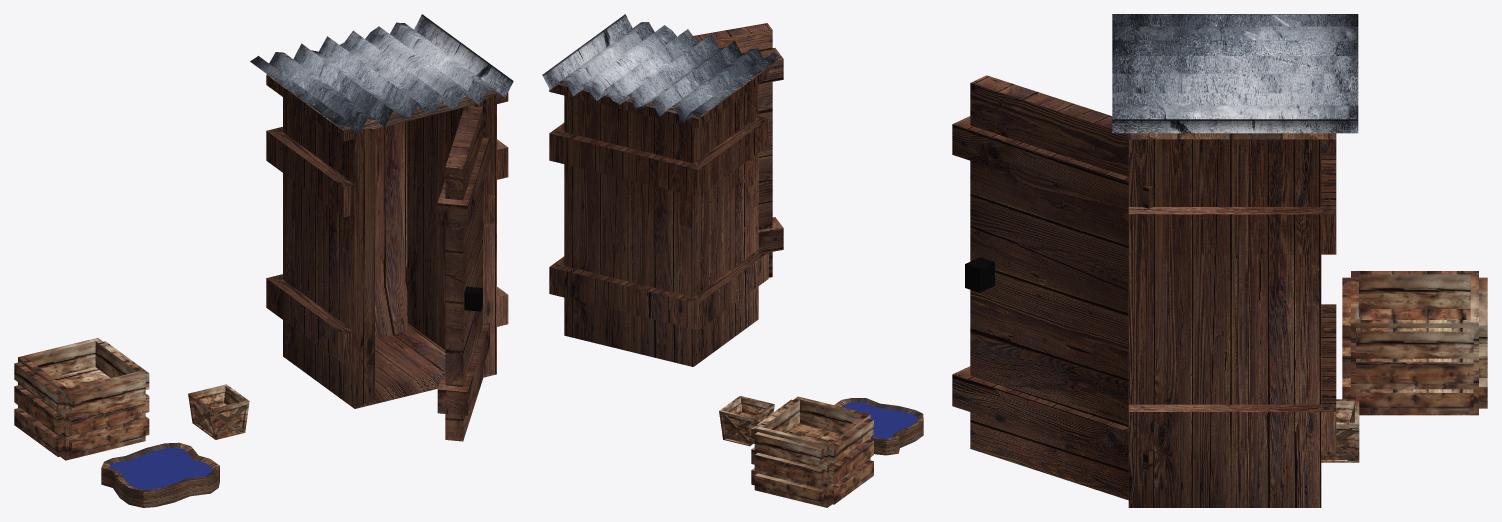
File: Crates.fbx
3 renders of one model, left to right at view 1: azimuth 30°, elevation 25°; view 2: azimuth 150°, elevation 25°; view 3: azimuth 270°, elevation 25°, orthographic. The views are drawn at different scales.
Visible parts, largest first — view 1: Box012, Box011, Box010, Crate; view 2: Box012, Box011, Box010, Crate; view 3: Box012, Box011, Crate.
Boxes of the visible parts, x1=… form: Box012: x1=250, y1=14, x2=513, y2=441; Box011: x1=14, y1=337, x2=149, y2=460; Box010: x1=101, y1=442, x2=219, y2=507; Crate: x1=188, y1=384, x2=249, y2=439; Box012: x1=542, y1=14, x2=783, y2=366; Box011: x1=751, y1=396, x2=873, y2=507; Box010: x1=834, y1=398, x2=923, y2=455; Crate: x1=719, y1=396, x2=774, y2=446; Box012: x1=952, y1=14, x2=1358, y2=507; Box011: x1=1342, y1=271, x2=1487, y2=415; Crate: x1=1321, y1=399, x2=1359, y2=462.
Bounding box in the file's own units: 651 × 610 × 616.
6 materials, 4 textured.
